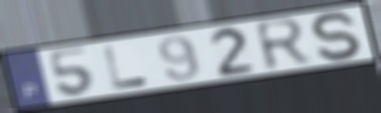2: (208, 25, 257, 78)
5: (45, 45, 98, 99)
9: (156, 35, 203, 83)
L: (101, 44, 153, 91)
R: (251, 16, 315, 74)
S: (308, 10, 368, 63)
